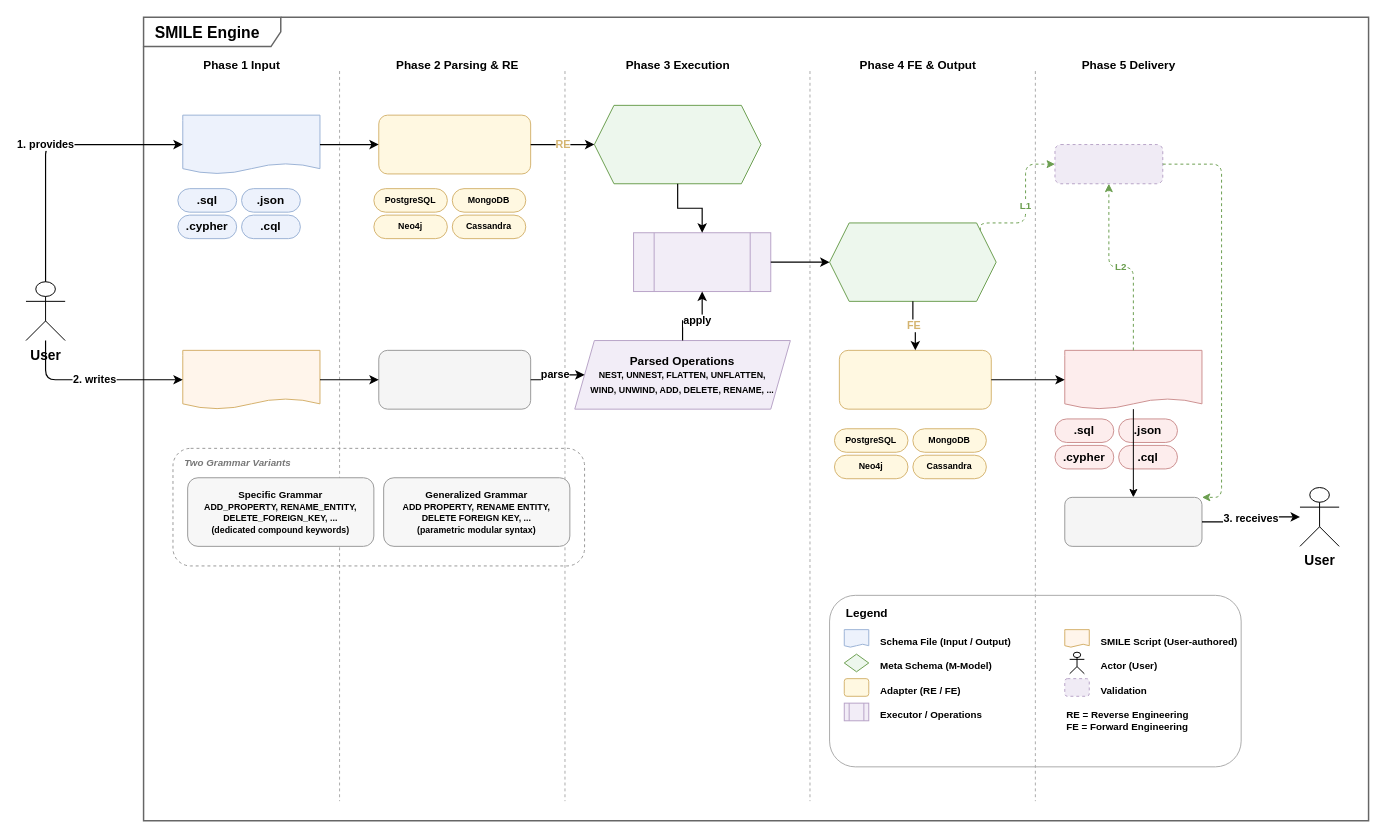
This 1386x839 diagram has some shape labels left out. The shapes that lost their labels are listed below. From the top down, each one's centre as x and y in pixels, then its label:
At [251,144]: "Source Schema".
At [454,144]: "Source Adapter (Reverse Engineering)".
At [677,144]: "Meta Schema V1 Unified M-Model".
At [1108,164]: "Validation 2-Layer Check".
At [702,262]: "Operation Executor (SchemaTransformer)".
At [912,261]: "Meta Schema V2 Unified M-Model".
At [251,379]: "SMILE Script .smile / .smile_gen".
At [454,379]: "ANTLR4 Parser Specific / Generalized".
At [914,379]: "Target Adapter (Forward Engineering)".
At [1133,379]: "Target Schema".
At [1133,521]: "Web UI Visualization".
